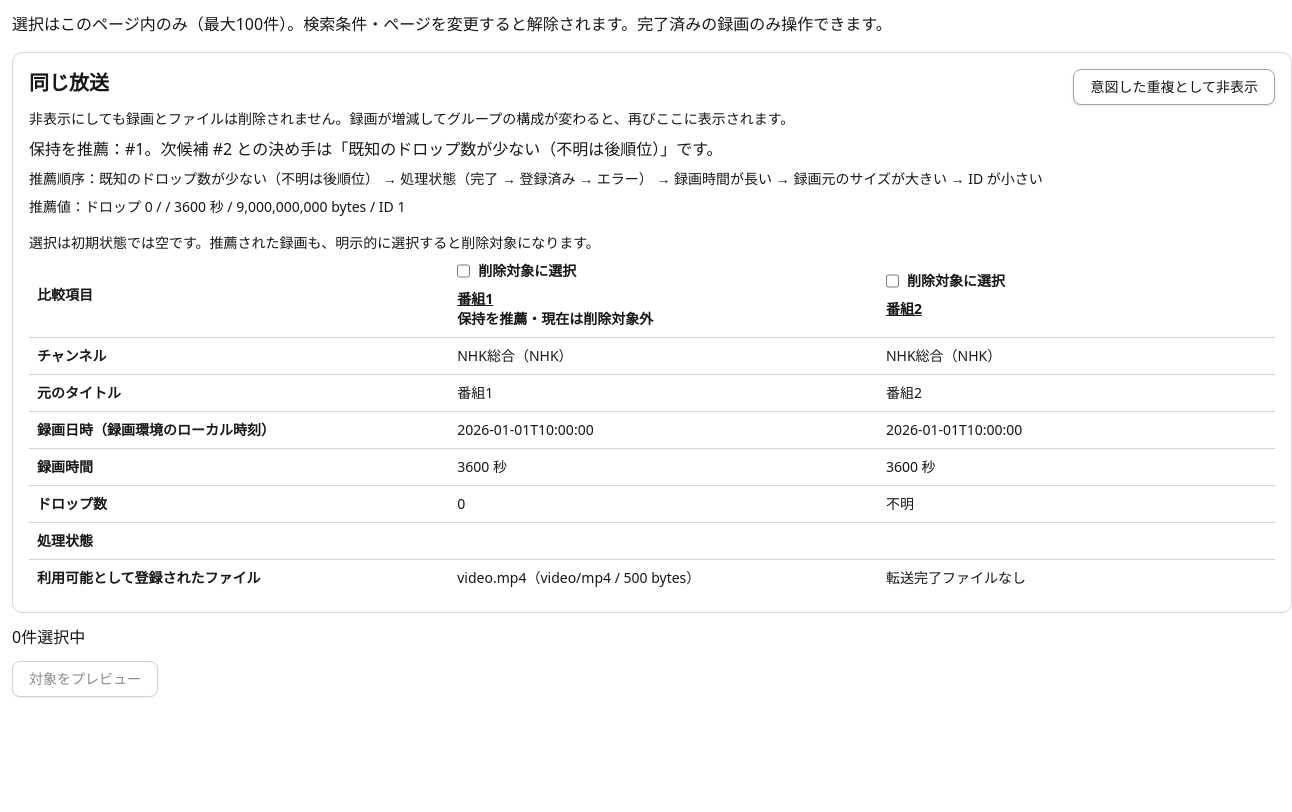
it: DuplicateReviewPanel › refuses to preview while every member of a group is selected, since nothing would be kept
The width and height of the screenshot is (1292, 812).
Click the checkbox named "削除対象に選択 #2". click: (892, 281)
box: [886,271,899,291]
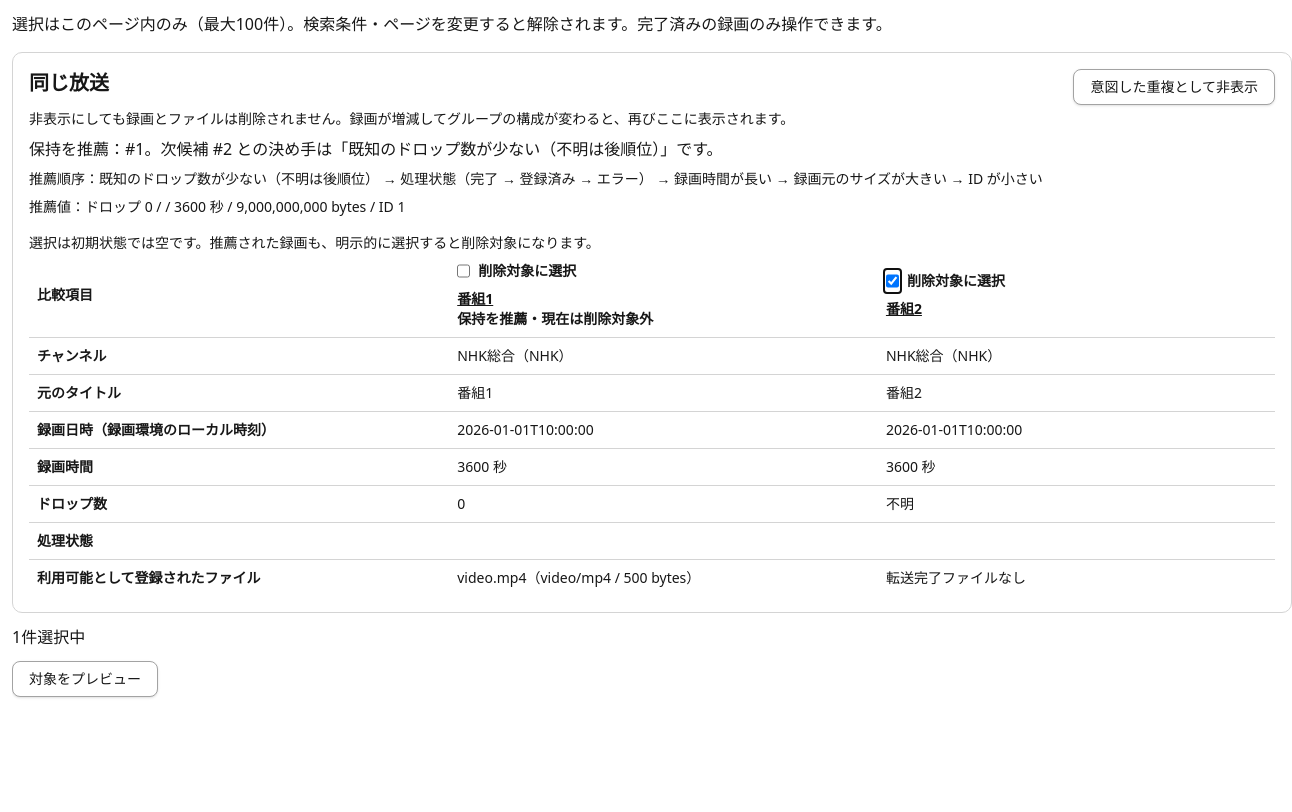
Now the button "対象をプレビュー" is enabled, box [12,661,158,697]
Click the checkbox named "削除対象に選択 #1". click: (464, 271)
box: [457,261,470,281]
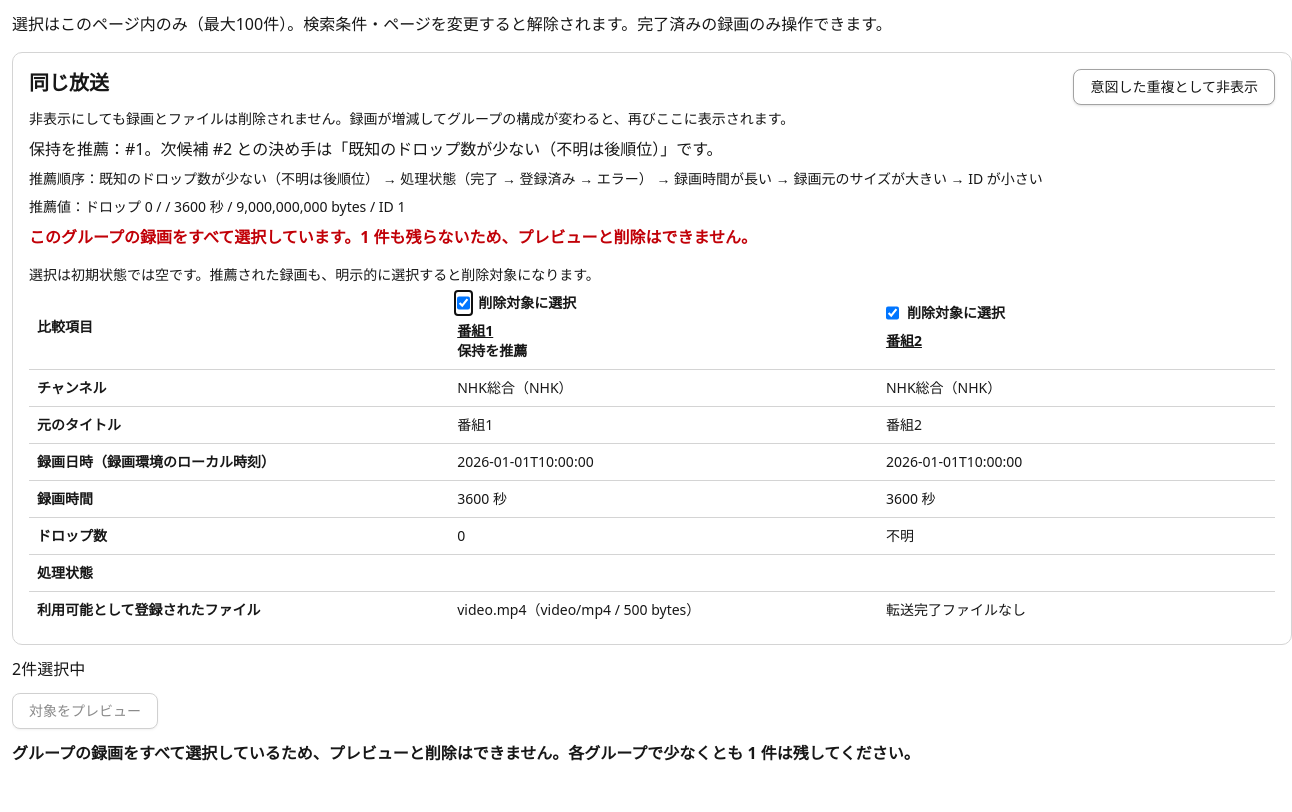
Now the message shows "すべて選択しています", box [29,226,757,248]
Now the text "グループの録画をすべて選択しているため、プレビューと削除はできません。各グループで少なくとも 1 件は残してください。" is shown, box [12,742,920,764]
Now the button "対象をプレビュー" is disabled
Click the button "対象をプレビュー". click: (85, 711)
box: [12,693,158,729]
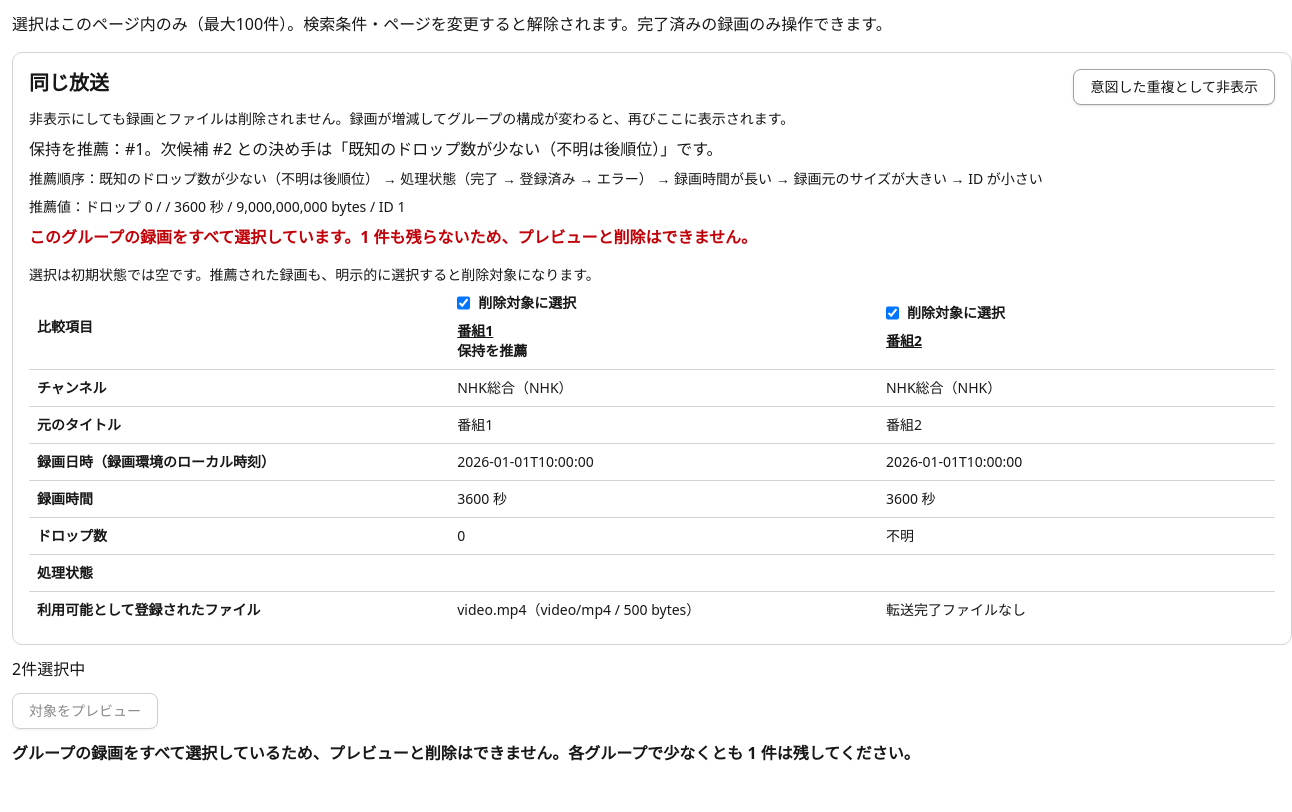
Click the checkbox named "削除対象に選択 #1". click: (464, 303)
box: [457,293,470,313]
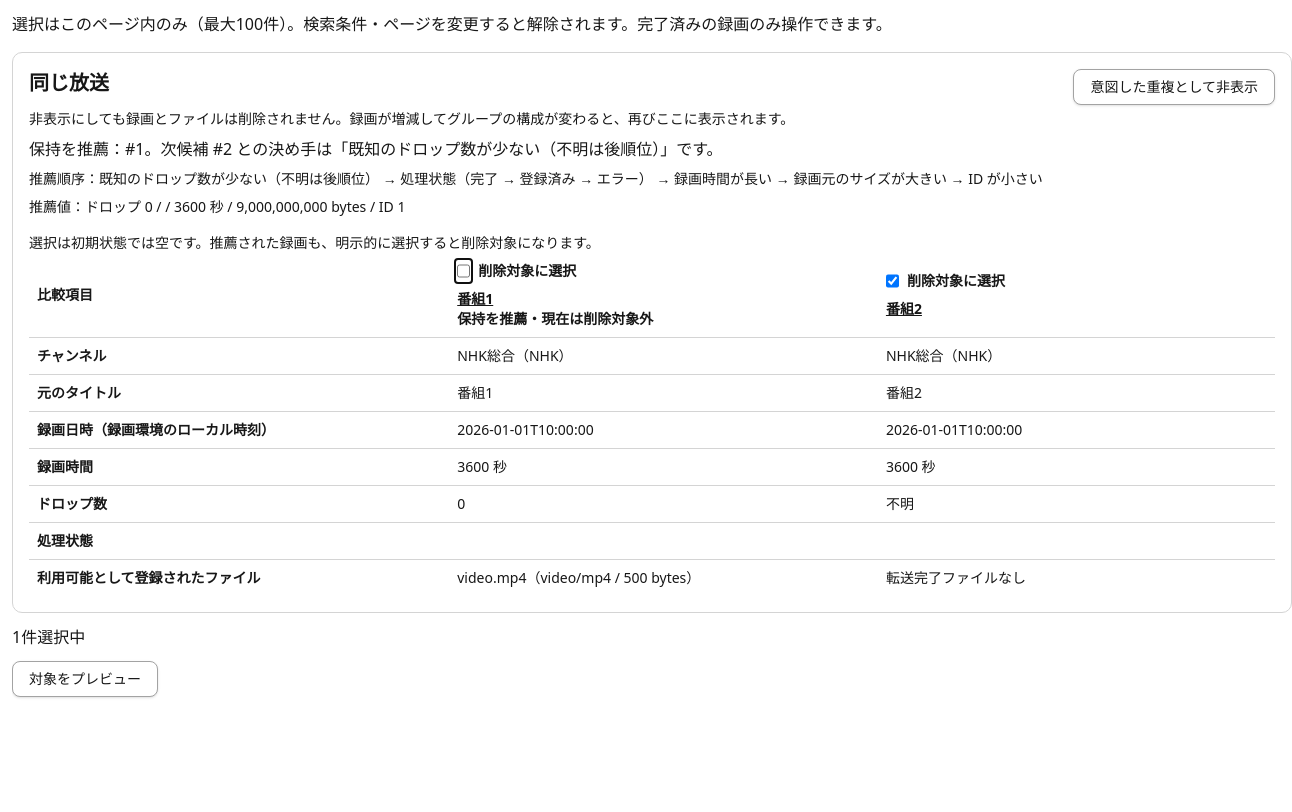
Now the message "このグループの録画をすべて選択しています。1 件も残らないため、プレビューと削除はできません。" is gone
Now the button "対象をプレビュー" is enabled, box [12,661,158,697]
